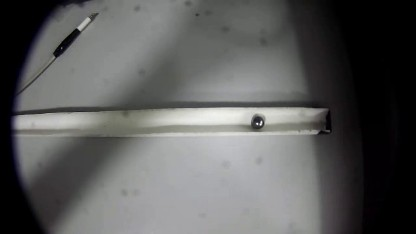gangzhu: (249, 114, 266, 130)
